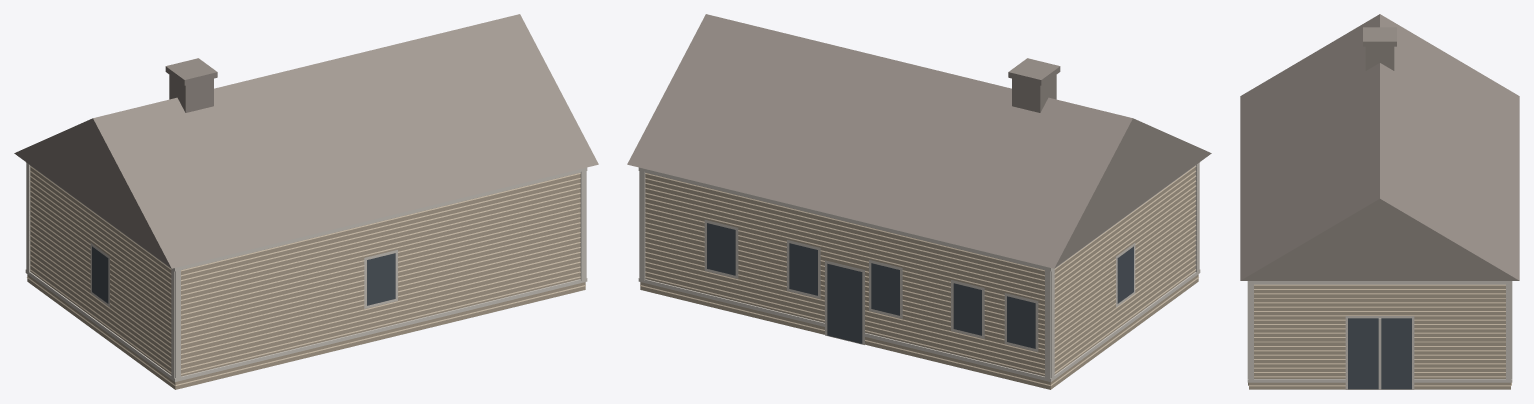
Rendered from bates_auction_room__frame_1834.glb.
The picture shows the model from 3 angles, left to right: view 1: azimuth 30°, elevation 25°; view 2: azimuth 150°, elevation 25°; view 3: azimuth 270°, elevation 25°; orthographic projection. The views are drawn at different scales.
Visible parts, largest first — view 1: bates_auction_room__frame_1834; view 2: bates_auction_room__frame_1834; view 3: bates_auction_room__frame_1834.
Part boxes in pixels (x1,y1,x2,y2): bates_auction_room__frame_1834: (14,14,598,389); bates_auction_room__frame_1834: (627,14,1211,389); bates_auction_room__frame_1834: (1240,14,1519,389).
Size of the model in its own units: 12.69 by 6.95 by 8.12.
